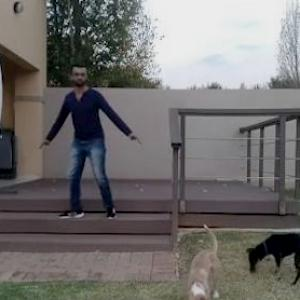land: (50, 64, 124, 230)
